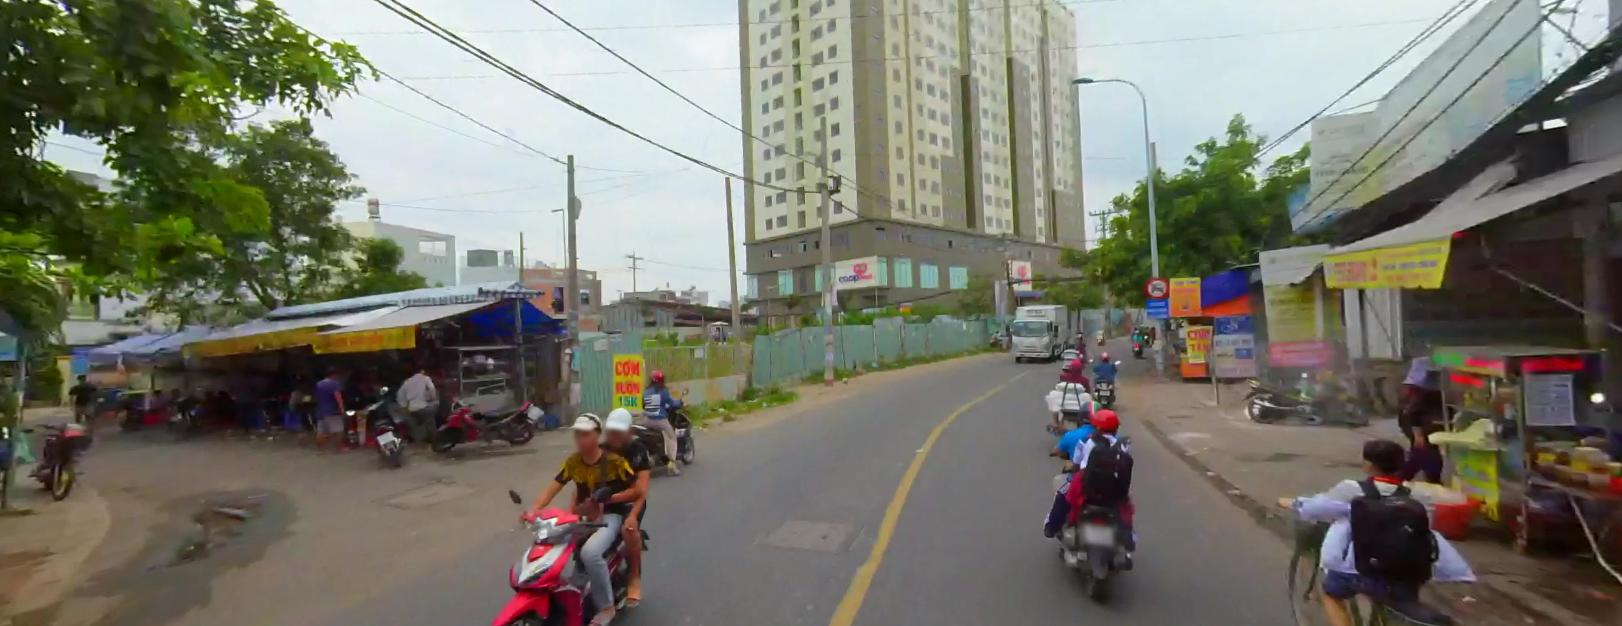Cam con lai: (1144, 276, 1170, 296)
